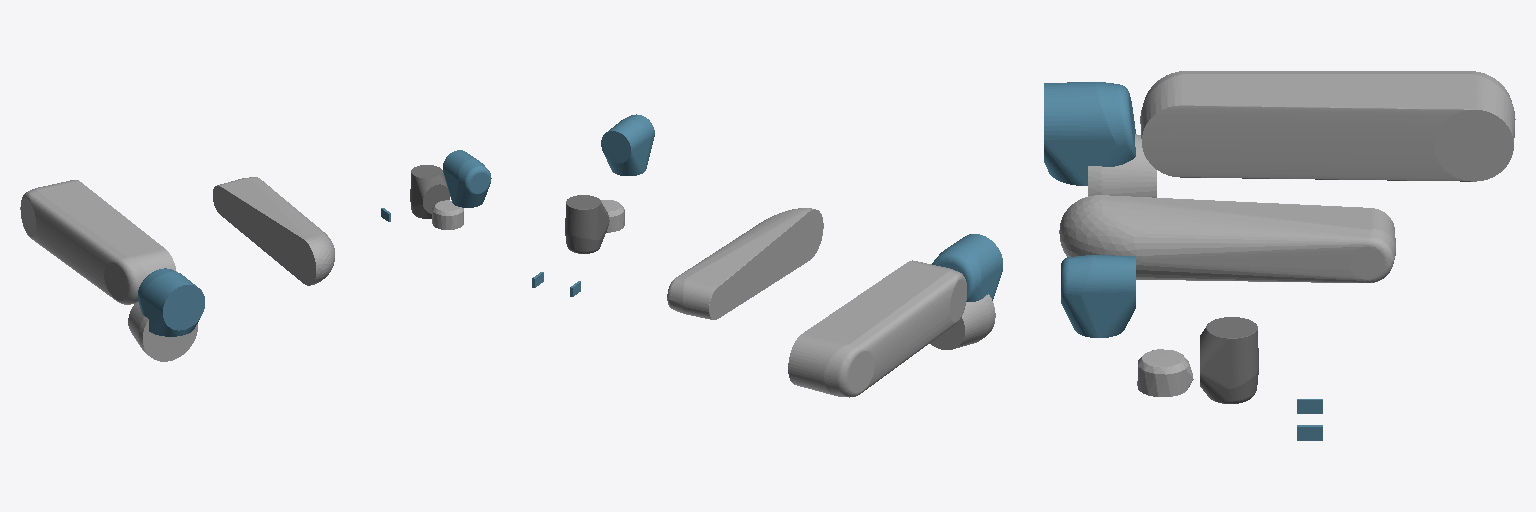
URDF robot description (ur5_robotiq_85):
<?xml version="1.0" ?>
<!-- =================================================================================== -->
<!-- |    This document was autogenerated by xacro from sisbot.xacro                   | -->
<!-- |    EDITING THIS FILE BY HAND IS NOT RECOMMENDED                                 | -->
<!-- =================================================================================== -->
<robot name="ur5_robotiq_85" xmlns:xacro="http://ros.org/wiki/xacro">
  <!--################################################
  ########              arm                    #######
  ####################################################-->

  <link name="base_link">
    <visual>
      <geometry>
        <mesh filename="../meshes/ur5/visual/base.obj"/>
      </geometry>
      <material name="LightGrey">
        <color rgba="0.7 0.7 0.7 1.0"/>
      </material>
    </visual>
    <collision>
      <geometry>
        <mesh filename="../meshes/ur5/collision/base.stl"/>
      </geometry>
    </collision>
    <inertial>
      <mass value="4.0"/>
      <origin rpy="0 0 0" xyz="0.0 0.0 0.0"/>
      <inertia ixx="0.00443333156" ixy="0.0" ixz="0.0" iyy="0.00443333156" iyz="0.0" izz="0.0072"/>
    </inertial>
  </link>

  <joint name="shoulder_pan_joint" type="revolute">
    <parent link="base_link"/>
    <child link="shoulder_link"/>
    <origin rpy="0.0 0.0 0.0" xyz="0.0 0.0 0.089159"/>
    <axis xyz="0 0 1"/>
    <limit effort="150.0" lower="-3.14159265359" upper="3.14159265359" velocity="3.15"/>
    <dynamics damping="0.1" friction="0.0"/>
  </joint>
  <link name="shoulder_link">
    <visual>
      <geometry>
        <mesh filename="../meshes/ur5/visual/shoulder.obj"/>
      </geometry>
      <material name="UR-Blue">
        <color rgba="0.376 0.576 0.674 1.0"/>
      </material>
    </visual>
    <collision>
      <geometry>
        <mesh filename="../meshes/ur5/collision/shoulder.stl"/>
      </geometry>
    </collision>
    <inertial>
      <mass value="3.7"/>
      <origin rpy="0 0 0" xyz="0.0 0.0 0.0"/>
      <inertia ixx="0.010267495893" ixy="0.0" ixz="0.0" iyy="0.010267495893" iyz="0.0" izz="0.00666"/>
    </inertial>
  </link>
  <joint name="shoulder_lift_joint" type="revolute">
    <parent link="shoulder_link"/>
    <child link="upper_arm_link"/>
    <origin rpy="0.0 1.57079632679 0.0" xyz="0.0 0.13585 0.0"/>
    <axis xyz="0 1 0"/>
    <limit effort="150.0" lower="-3.14159265359" upper="3.14159265359" velocity="3.15"/>
    <dynamics damping="0.1" friction="0.0"/>
  </joint>
  <link name="upper_arm_link">
    <visual>
      <geometry>
        <mesh filename="../meshes/ur5/visual/upperarm.obj"/>
      </geometry>
      <material name="LightGrey">
        <color rgba="0.7 0.7 0.7 1.0"/>
      </material>
    </visual>
    <collision>
      <geometry>
        <mesh filename="../meshes/ur5/collision/upperarm.stl"/>
      </geometry>
    </collision>
    <inertial>
      <mass value="8.393"/>
      <origin rpy="0 0 0" xyz="0.0 0.0 0.28"/>
      <inertia ixx="0.22689067591" ixy="0.0" ixz="0.0" iyy="0.22689067591" iyz="0.0" izz="0.0151074"/>
    </inertial>
  </link>
  <joint name="elbow_joint" type="revolute">
    <parent link="upper_arm_link"/>
    <child link="forearm_link"/>
    <origin rpy="0.0 0.0 0.0" xyz="0.0 -0.1197 0.425"/>
    <axis xyz="0 1 0"/>
    <limit effort="150.0" lower="-3.14159265359" upper="3.14159265359" velocity="3.15"/>
    <dynamics damping="0.1" friction="0.0"/>
  </joint>
  <link name="forearm_link">
    <visual>
      <geometry>
        <mesh filename="../meshes/ur5/visual/forearm.obj"/>
      </geometry>
      <material name="LightGrey">
        <color rgba="0.7 0.7 0.7 1.0"/>
      </material>
    </visual>
    <collision>
      <geometry>
        <mesh filename="../meshes/ur5/collision/forearm.stl"/>
      </geometry>
    </collision>
    <inertial>
      <mass value="2.275"/>
      <origin rpy="0 0 0" xyz="0.0 0.0 0.25"/>
      <inertia ixx="0.049443313556" ixy="0.0" ixz="0.0" iyy="0.049443313556" iyz="0.0" izz="0.004095"/>
    </inertial>
  </link>
  <joint name="wrist_1_joint" type="revolute">
    <parent link="forearm_link"/>
    <child link="wrist_1_link"/>
    <origin rpy="0.0 1.57079632679 0.0" xyz="0.0 0.0 0.39225"/>
    <axis xyz="0 1 0"/>
    <limit effort="28.0" lower="-3.14159265359" upper="3.14159265359" velocity="3.2"/>
    <dynamics damping="0.1" friction="0.0"/>
  </joint>
  <link name="wrist_1_link">
    <visual>
      <geometry>
        <mesh filename="../meshes/ur5/visual/wrist1.obj"/>
      </geometry>
      <material name="UR-Blue">
        <color rgba="0.376 0.576 0.674 1.0"/>
      </material>
    </visual>
    <collision>
      <geometry>
        <mesh filename="../meshes/ur5/collision/wrist1.stl"/>
      </geometry>
    </collision>
    <inertial>
      <mass value="1.219"/>
      <origin rpy="0 0 0" xyz="0.0 0.0 0.0"/>
      <inertia ixx="0.111172755531" ixy="0.0" ixz="0.0" iyy="0.111172755531" iyz="0.0" izz="0.21942"/>
    </inertial>
  </link>
  <joint name="wrist_2_joint" type="revolute">
    <parent link="wrist_1_link"/>
    <child link="wrist_2_link"/>
    <origin rpy="0.0 0.0 0.0" xyz="0.0 0.093 0.0"/>
    <axis xyz="0 0 1"/>
    <limit effort="28.0" lower="-3.14159265359" upper="3.14159265359" velocity="3.2"/>
    <dynamics damping="0.1" friction="0.0"/>
  </joint>
  <link name="wrist_2_link">
    <visual>
      <geometry>
        <mesh filename="../meshes/ur5/visual/wrist2.obj"/>
      </geometry>
      <material name="DarkGray">
        <color rgba="0.5 0.5 0.5 1.0"/>
      </material>
    </visual>
    <collision>
      <geometry>
        <mesh filename="../meshes/ur5/collision/wrist2.stl"/>
      </geometry>
    </collision>
    <inertial>
      <mass value="1.219"/>
      <origin rpy="0 0 0" xyz="0.0 0.0 0.0"/>
      <inertia ixx="0.111172755531" ixy="0.0" ixz="0.0" iyy="0.111172755531" iyz="0.0" izz="0.21942"/>
    </inertial>
  </link>
  <joint name="wrist_3_joint" type="revolute">
    <parent link="wrist_2_link"/>
    <child link="wrist_3_link"/>
    <origin rpy="0.0 0.0 0.0" xyz="0.0 0.0 0.09465"/>
    <axis xyz="0 1 0"/>
    <limit effort="28.0" lower="-3.14159265359" upper="3.14159265359" velocity="3.2"/>
    <dynamics damping="0.1" friction="0.0"/>
  </joint>
  <link name="wrist_3_link">
    <visual>
      <geometry>
        <mesh filename="../meshes/ur5/visual/wrist3.obj"/>
      </geometry>
      <material name="LightGrey">
        <color rgba="0.7 0.7 0.7 1.0"/>
      </material>
    </visual>
    <collision>
      <geometry>
        <mesh filename="../meshes/ur5/collision/wrist3.stl"/>
      </geometry>
    </collision>
    <inertial>
      <mass value="0.1879"/>
      <origin rpy="0 0 0" xyz="0.0 0.0 0.0"/>
      <inertia ixx="0.0171364731454" ixy="0.0" ixz="0.0" iyy="0.0171364731454" iyz="0.0" izz="0.033822"/>
    </inertial>
  </link>
  <joint name="ee_fixed_joint" type="fixed">
    <parent link="wrist_3_link"/>
    <child link="ee_link"/>
    <origin rpy="0.0 0.0 1.57079632679" xyz="0.0 0.0823 0.0"/>
    <dynamics damping="0.1" friction="0.0"/>
  </joint>
  <link name="ee_link">
    <collision>
      <geometry>
        <box size="0.01 0.01 0.01"/>
      </geometry>
      <origin rpy="0 0 0" xyz="-0.01 0 0"/>
    </collision>
  </link>

  <!--################################################
  ########              gripper                  #####
  ####################################################-->

  <link name="robotiq_arg2f_base_link">
    <inertial>
      <origin rpy="0 0 0" xyz="8.625E-08 -4.6583E-06 0.03145"/>
      <mass value="0.22652"/>
      <inertia ixx="0.00020005" ixy="-4.2442E-10" ixz="-2.9069E-10" iyy="0.00017832" iyz="-3.4402E-08" izz="0.00013478"/>
    </inertial>
    <visual>
      <origin rpy="0 0 0" xyz="0 0 0"/>
      <geometry>
        <mesh filename="../meshes/robotiq_85/visual/robotiq_arg2f_85_base_link.dae" scale="0.001 0.001 0.001"/>
      </geometry>
      <material name="LightGrey">
        <color rgba="0.7 0.7 0.7 1.0"/>
      </material>
    </visual>
    <collision>
      <origin rpy="0 0 0" xyz="0 0 0"/>
      <geometry>
        <mesh filename="../meshes/robotiq_85/collision/robotiq_arg2f_base_link.stl"/>
      </geometry>
    </collision>
  </link>
  <joint name="finger_joint" type="revolute">
    <origin rpy="0 0 3.14159265359" xyz="0 -0.0306011 0.054904"/>
    <parent link="robotiq_arg2f_base_link"/>
    <child link="left_outer_knuckle"/>
    <axis xyz="1 0 0"/>
    <limit effort="1000" lower="0" upper="0.8" velocity="2.0"/>
    <dynamics damping="0.1" friction="0.0"/>
  </joint>
  <link name="left_outer_knuckle">
    <inertial>
        <origin xyz="-0.000200000000003065 0.0199435877845359 0.0292245259211331" rpy="0 0 0" />
        <mass value="0.00853198276973456" />
        <inertia ixx="2.89328108496468E-06" ixy="-1.57935047237397E-19" ixz="-1.93980378593255E-19" iyy="1.86719750325683E-06" iyz="-1.21858577871576E-06" izz="1.21905238907251E-06" />
        </inertial>
    <visual>
      <origin rpy="0 0 0" xyz="0 0 0"/>
      <geometry>
        <mesh filename="../meshes/robotiq_85/visual/robotiq_arg2f_85_outer_knuckle.dae" scale="0.001 0.001 0.001"/>
      </geometry>
      <material name="">
        <color rgba="1 1 0 1"/>
      </material>
    </visual>
    <collision>
      <origin rpy="0 0 0" xyz="0 0 0"/>
      <geometry>
        <mesh filename="../meshes/robotiq_85/collision/robotiq_arg2f_85_outer_knuckle.dae" scale="0.001 0.001 0.001"/>
      </geometry>
    </collision>
  </link>
  <joint name="left_outer_finger_joint" type="fixed">
    <origin rpy="0 0 0" xyz="0 0.0315 -0.0041"/>
    <parent link="left_outer_knuckle"/>
    <child link="left_outer_finger"/>
    <axis xyz="1 0 0"/>
    <dynamics damping="0.1" friction="0.0"/>
  </joint>
  <link name="left_outer_finger">
    <inertial>
        <origin xyz="0.00030115855001899 0.0373907951953854 -0.0208027427000385" rpy="0 0 0" />
        <mass value="0.022614240507152" />
        <inertia ixx="1.52518312458174E-05" ixy="9.76583423954399E-10" ixz="-5.43838577022588E-10" iyy="6.17694243867776E-06" iyz="6.78636130740228E-06" izz="1.16494917907219E-05" />
        </inertial>
    <visual>
      <origin rpy="0 0 0" xyz="0 0 0"/>
      <geometry>
        <mesh filename="../meshes/robotiq_85/visual/robotiq_arg2f_85_outer_finger.dae" scale="0.001 0.001 0.001"/>
      </geometry>
      <material name="LightGrey">
        <color rgba="0 1 1 1.0"/>
      </material>
    </visual>
    <collision>
      <origin rpy="0 0 0" xyz="0 0 0"/>
      <geometry>
        <mesh filename="../meshes/robotiq_85/collision/robotiq_arg2f_85_outer_finger.dae" scale="0.001 0.001 0.001"/>
      </geometry>
    </collision>
  </link>
  <joint name="left_inner_finger_joint" type="revolute">
    <origin rpy="0 0 0" xyz="0 0.0061 0.0471"/>
    <parent link="left_outer_finger"/>
    <child link="left_inner_finger"/>
    <axis xyz="1 0 0"/>
    <limit effort="1000" lower="-0.8757" upper="0" velocity="2.0"/>
    <mimic joint="finger_joint" multiplier="-1" offset="0"/>
    <dynamics damping="0.1" friction="0.0"/>
  </joint>
  <link name="left_inner_finger">
    <inertial>
        <origin xyz="0.000299999999999317 0.0160078233491243 -0.0136945669206257" rpy="0 0 0" />
        <mass value="0.0104003125914103" />
        <inertia ixx="2.71909453810972E-06" ixy="1.35402465472579E-21" ixz="-7.1817349065269E-22" iyy="7.69100314106116E-07" iyz="6.74715432769696E-07" izz="2.30315190420171E-06" />
        </inertial>
    <visual>
      <origin rpy="0 0 0" xyz="0 0 0"/>
      <geometry>
        <mesh filename="../meshes/robotiq_85/visual/robotiq_arg2f_85_inner_finger.dae" scale="0.001 0.001 0.001"/>
      </geometry>
      <material name="LightGrey">
        <color rgba="1 0 1 1.0"/>
      </material>
    </visual>
    <collision>
      <origin rpy="0 0 0" xyz="0 0 0"/>
      <geometry>
        <mesh filename="../meshes/robotiq_85/collision/robotiq_arg2f_85_inner_finger.dae" scale="0.001 0.001 0.001"/>
      </geometry>
    </collision>
  </link>
  <joint name="left_inner_finger_pad_joint" type="fixed">
    <origin rpy="0 0 0" xyz="0 -0.0220203446692936 0.03242"/>
    <parent link="left_inner_finger"/>
    <child link="left_inner_finger_pad"/>
    <axis xyz="0 0 1"/>
    <dynamics damping="0.1" friction="0.0"/>
  </joint>
  <link name="left_inner_finger_pad">
    <inertial>
      <mass value="1."/>
      <inertia ixx="1E-10" ixy="1E-10" ixz="1E-10" iyy="1E-10" iyz="1E-10" izz="1E-10"/>
    </inertial>
    <contact>
      <friction_anchor/>
      <stiffness value="30000.0"/>
      <damping value="1000.0"/>
      <spinning_friction value="0.1"/>
      <lateral_friction value="1.0"/>
    </contact>
    <visual>
      <origin rpy="0 0 0" xyz="0 0 0"/>
      <geometry>
        <box size="0.022 0.00635 0.0375"/>
      </geometry>
      <material name="UR-Blue">
        <color rgba="0.376 0.576 0.674 1.0"/>
      </material>
    </visual>
    <collision>
      <origin rpy="0 0 0" xyz="0 0 0"/>
      <geometry>
        <box size="0.022 0.00635 0.0375"/>
      </geometry>
      <material name="">
        <color rgba="0.9 0.0 0.0 1"/>
      </material>
    </collision>
  </link>
  <joint name="left_inner_knuckle_joint" type="revolute">
    <!-- <origin xyz="0 ${reflect * -0.0127} 0.06142" rpy="${pi / 2 + .725} 0 ${(reflect - 1) * pi / 2}" /> -->
    <origin rpy="0 0 3.14159265359" xyz="0 -0.0127 0.06142"/>
    <parent link="robotiq_arg2f_base_link"/>
    <child link="left_inner_knuckle"/>
    <axis xyz="1 0 0"/>
    <limit effort="1000" lower="0" upper="0.8757" velocity="2.0"/>
    <mimic joint="finger_joint" multiplier="1" offset="0"/>
    <dynamics damping="0.1" friction="0.0"/>
  </joint>
  <link name="left_inner_knuckle">
    <inertial>
        <origin xyz="0.000123011831763771 0.0507850843201817 0.00103968640075166" rpy="0 0 0" />
       <mass value="0.0271177346495152" />
        <inertia ixx="2.61910379223783E-05" ixy="-2.43616858946494E-07" ixz="-6.37789906117123E-09" iyy="2.8270243746167E-06" iyz="-5.37200748039765E-07" izz="2.83695868220296E-05" />
        </inertial>
    <visual>
      <origin rpy="0 0 0" xyz="0 0 0"/>
      <geometry>
        <mesh filename="../meshes/robotiq_85/visual/robotiq_arg2f_85_inner_knuckle.dae" scale="0.001 0.001 0.001"/>
      </geometry>
      <material name="LightGrey">
        <color rgba="0 0 1 1.0"/>
      </material>
    </visual>
    <collision>
      <origin rpy="0 0 0" xyz="0 0 0"/>
      <geometry>
        <mesh filename="../meshes/robotiq_85/collision/robotiq_arg2f_85_inner_knuckle.dae" scale="0.001 0.001 0.001"/>
      </geometry>
    </collision>
  </link>
  <joint name="right_outer_knuckle_joint" type="revolute">
    <origin rpy="0 0 0" xyz="0 0.0306011 0.054904"/>
    <parent link="robotiq_arg2f_base_link"/>
    <child link="right_outer_knuckle"/>
    <axis xyz="1 0 0"/>
    <limit effort="1000" lower="0" upper="0.81" velocity="2.0"/>
    <mimic joint="finger_joint" multiplier="1" offset="0"/>
    <dynamics damping="0.1" friction="0.0"/>
  </joint>
  <link name="right_outer_knuckle">
    <inertial>
        <origin xyz="-0.000200000000003065 0.0199435877845359 0.0292245259211331" rpy="0 0 0" />
        <mass value="0.00853198276973456" />
        <inertia ixx="2.89328108496468E-06" ixy="-1.57935047237397E-19" ixz="-1.93980378593255E-19" iyy="1.86719750325683E-06" iyz="-1.21858577871576E-06" izz="1.21905238907251E-06" />
        </inertial>
    <visual>
      <origin rpy="0 0 0" xyz="0 0 0"/>
      <geometry>
        <mesh filename="../meshes/robotiq_85/visual/robotiq_arg2f_85_outer_knuckle.dae" scale="0.001 0.001 0.001"/>
      </geometry>
      <material name="">
        <color rgba="0.792156862745098 0.819607843137255 0.933333333333333 1"/>
      </material>
    </visual>
    <collision>
      <origin rpy="0 0 0" xyz="0 0 0"/>
      <geometry>
        <mesh filename="../meshes/robotiq_85/collision/robotiq_arg2f_85_outer_knuckle.dae" scale="0.001 0.001 0.001"/>
      </geometry>
    </collision>
  </link>
  <joint name="right_outer_finger_joint" type="fixed">
    <origin rpy="0 0 0" xyz="0 0.0315 -0.0041"/>
    <parent link="right_outer_knuckle"/>
    <child link="right_outer_finger"/>
    <axis xyz="1 0 0"/>
    <dynamics damping="0.1" friction="0.0"/>
  </joint>
  <link name="right_outer_finger">
    <inertial>
        <origin xyz="0.00030115855001899 0.0373907951953854 -0.0208027427000385" rpy="0 0 0" />
        <mass value="0.022614240507152" />
        <inertia ixx="1.52518312458174E-05" ixy="9.76583423954399E-10" ixz="-5.43838577022588E-10" iyy="6.17694243867776E-06" iyz="6.78636130740228E-06" izz="1.16494917907219E-05" />
        </inertial>
    <visual>
      <origin rpy="0 0 0" xyz="0 0 0"/>
      <geometry>
        <mesh filename="../meshes/robotiq_85/visual/robotiq_arg2f_85_outer_finger.dae" scale="0.001 0.001 0.001"/>
      </geometry>
      <material name="LightGrey">
        <color rgba="0.7 0.7 0.7 1.0"/>
      </material>
    </visual>
    <collision>
      <origin rpy="0 0 0" xyz="0 0 0"/>
      <geometry>
        <mesh filename="../meshes/robotiq_85/collision/robotiq_arg2f_85_outer_finger.dae" scale="0.001 0.001 0.001"/>
      </geometry>
    </collision>
  </link>
  <joint name="right_inner_finger_joint" type="revolute">
    <origin rpy="0 0 0" xyz="0 0.0061 0.0471"/>
    <parent link="right_outer_finger"/>
    <child link="right_inner_finger"/>
    <axis xyz="1 0 0"/>
    <limit effort="1000" lower="-0.8757" upper="0" velocity="2.0"/>
    <mimic joint="finger_joint" multiplier="-1" offset="0"/>
    <dynamics damping="0.1" friction="0.0"/>
  </joint>
  <link name="right_inner_finger">
    <inertial>
        <origin xyz="0.000299999999999317 0.0160078233491243 -0.0136945669206257" rpy="0 0 0" />
        <mass value="0.0104003125914103" />
        <inertia ixx="2.71909453810972E-06" ixy="1.35402465472579E-21" ixz="-7.1817349065269E-22" iyy="7.69100314106116E-07" iyz="6.74715432769696E-07" izz="2.30315190420171E-06" />
        </inertial>
    <visual>
      <origin rpy="0 0 0" xyz="0 0 0"/>
      <geometry>
        <mesh filename="../meshes/robotiq_85/visual/robotiq_arg2f_85_inner_finger.dae" scale="0.001 0.001 0.001"/>
      </geometry>
      <material name="">
        <color rgba="0.1 0.1 0.1 1"/>
      </material>
    </visual>
    <collision>
      <origin rpy="0 0 0" xyz="0 0 0"/>
      <geometry>
        <mesh filename="../meshes/robotiq_85/collision/robotiq_arg2f_85_inner_finger.dae" scale="0.001 0.001 0.001"/>
      </geometry>
    </collision>
  </link>
  <joint name="right_inner_finger_pad_joint" type="fixed">
    <origin rpy="0 0 0" xyz="0 -0.0220203446692936 0.03242"/>
    <parent link="right_inner_finger"/>
    <child link="right_inner_finger_pad"/>
    <axis xyz="0 0 1"/>
    <dynamics damping="0.1" friction="0.0"/>
  </joint>
  <link name="right_inner_finger_pad">
    <inertial>
      <mass value="1"/>
      <inertia ixx="1E-10" ixy="1E-10" ixz="1E-10" iyy="1E-10" iyz="1E-10" izz="1E-10"/>
    </inertial>
    <contact>
      <friction_anchor/>
      <stiffness value="30000.0"/>
      <damping value="1000.0"/>
      <spinning_friction value="0.1"/>
      <lateral_friction value="1.0"/>
    </contact>
    <visual>
      <origin rpy="0 0 0" xyz="0 0 0"/>
      <geometry>
        <box size="0.022 0.00635 0.0375"/>
      </geometry>
      <material name="UR-Blue">
        <color rgba="0.376 0.576 0.674 1.0"/>
      </material>
    </visual>
    <collision>
      <origin rpy="0 0 0" xyz="0 0 0"/>
      <geometry>
        <box size="0.022 0.00635 0.0375"/>
      </geometry>
      <material name="LightGrey">
        <color rgba="0.7 0.7 0.7 1.0"/>
      </material>
    </collision>
  </link>
  <joint name="right_inner_knuckle_joint" type="revolute">
    <!-- <origin xyz="0 ${reflect * -0.0127} 0.06142" rpy="${pi / 2 + .725} 0 ${(reflect - 1) * pi / 2}" /> -->
    <origin rpy="0 0 0.0" xyz="0 0.0127 0.06142"/>
    <parent link="robotiq_arg2f_base_link"/>
    <child link="right_inner_knuckle"/>
    <axis xyz="1 0 0"/>
    <limit effort="1000" lower="0" upper="0.8757" velocity="2.0"/>
    <mimic joint="finger_joint" multiplier="1" offset="0"/>
    <dynamics damping="0.1" friction="0.0"/>
  </joint>
  <link name="right_inner_knuckle">
    <inertial>
        <origin xyz="0.000123011831763771 0.0507850843201817 0.00103968640075166" rpy="0 0 0" />
       <mass value="0.0271177346495152" />
        <inertia ixx="2.61910379223783E-05" ixy="-2.43616858946494E-07" ixz="-6.37789906117123E-09" iyy="2.8270243746167E-06" iyz="-5.37200748039765E-07" izz="2.83695868220296E-05" />
        </inertial>
    <visual>
      <origin rpy="0 0 0" xyz="0 0 0"/>
      <geometry>
        <mesh filename="../meshes/robotiq_85/visual/robotiq_arg2f_85_inner_knuckle.dae" scale="0.001 0.001 0.001"/>
      </geometry>
      <material name="LightGrey">
        <color rgba="0.7 0.7 0.7 1.0"/>
      </material>
    </visual>
    <collision>
      <origin rpy="0 0 0" xyz="0 0 0"/>
      <geometry>
        <mesh filename="../meshes/robotiq_85/collision/robotiq_arg2f_85_inner_knuckle.dae" scale="0.001 0.001 0.001"/>
      </geometry>
    </collision>
  </link>

<!--################################################
  ########          connect model                #####
  ####################################################-->

  <link name="world"/>
  <!-- connect gripper to arm -->
  <joint name="robotiq_85_base_joint" type="fixed">
    <parent link="ee_link"/>
    <child link="robotiq_arg2f_base_link"/>
    <origin rpy="0 1.57079632679 0" xyz="0 0 0"/>
  </joint>

<!--  <joint name="arm_gripper_joint" type="fixed">-->
<!--    <parent link="ee_link"/>-->
<!--    <child link="robotiq_140_robotiq_arg2f_base_link"/>-->
<!--    <origin rpy="-1.57 1.57 -1.57" xyz="0.0 0.0 0.0"/>-->
<!--  </joint>-->

  <!-- connect arm to world -->
  <joint name="world_arm_joint" type="fixed">
    <parent link="world"/>
    <child link="base_link"/>
    <origin rpy="0.0 0.0 0" xyz="0 0 0"/>
  </joint>


</robot>

--- Render facts (derived) ---
The picture shows the robot from 3 angles, left to right: view 1: azimuth 30°, elevation 25°; view 2: azimuth 150°, elevation 25°; view 3: azimuth 270°, elevation 25°; orthographic projection.
Model ur5_robotiq_85 with 20 links and 19 joints (12 revolute, 7 fixed), rooted at world, posed all joints at 0.
Visible links, largest first — view 1: upper_arm_link, forearm_link, shoulder_link, wrist_1_link, base_link, wrist_2_link, wrist_3_link; view 2: upper_arm_link, forearm_link, shoulder_link, wrist_1_link, wrist_2_link, base_link, wrist_3_link; view 3: upper_arm_link, forearm_link, shoulder_link, wrist_1_link, wrist_2_link, base_link, wrist_3_link.
Boxes of the visible links, x1,y1,x2,y2 form: upper_arm_link: (20, 180, 176, 304); forearm_link: (213, 177, 334, 285); shoulder_link: (138, 268, 204, 336); wrist_1_link: (443, 150, 491, 207); base_link: (128, 302, 197, 361); wrist_2_link: (410, 165, 449, 218); wrist_3_link: (432, 200, 463, 229); upper_arm_link: (788, 260, 966, 397); forearm_link: (667, 208, 823, 319); shoulder_link: (932, 234, 1002, 301); wrist_1_link: (601, 114, 654, 175); wrist_2_link: (565, 195, 609, 253); base_link: (930, 294, 995, 349); wrist_3_link: (601, 200, 624, 232); upper_arm_link: (1140, 71, 1515, 181); forearm_link: (1059, 195, 1395, 282); shoulder_link: (1044, 82, 1135, 185); wrist_1_link: (1061, 255, 1135, 337); wrist_2_link: (1200, 317, 1258, 403); base_link: (1088, 134, 1156, 197); wrist_3_link: (1137, 349, 1193, 396).
Size in the robot's own frame: 0.9421 by 0.6843 by 0.3303 metres.
7 mesh visuals loaded from 12 distinct referenced files (7 OBJ); not drawn: 9 (reference not matched to a file when rendering).